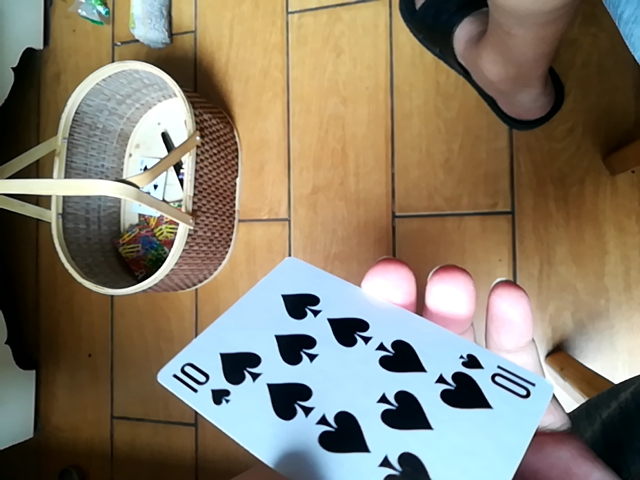ht 10: (154, 246, 568, 480)
